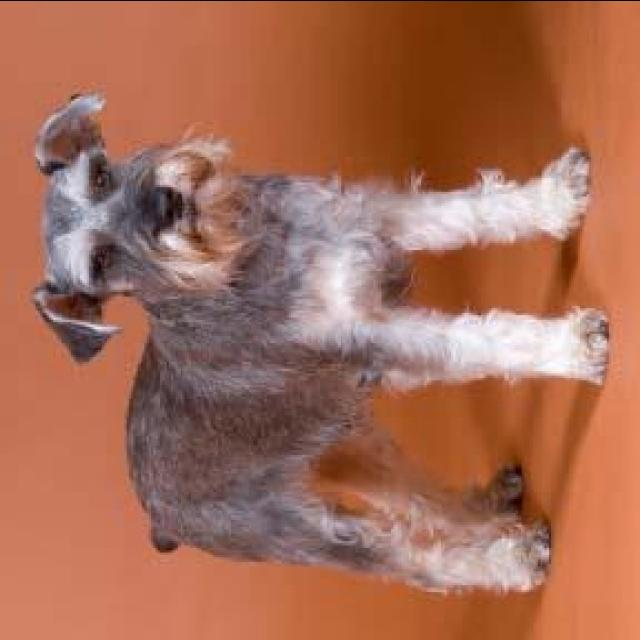standard_schnauzer: (29, 89, 615, 600)
